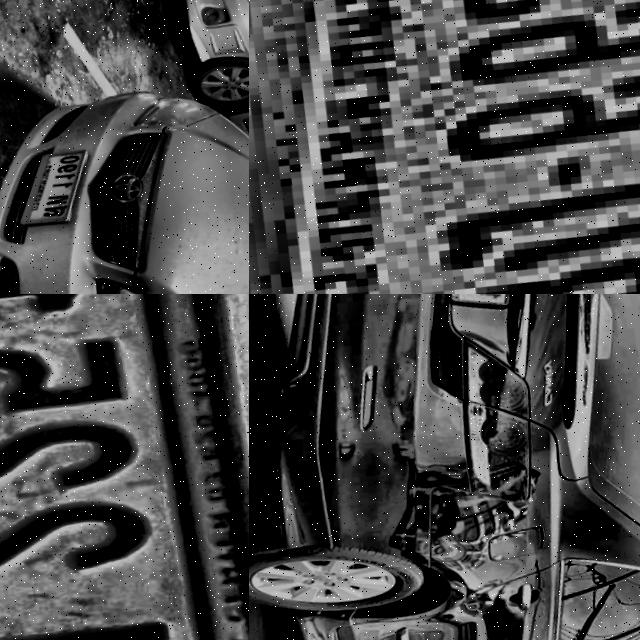license-plate: (249, 0, 640, 294), (0, 294, 249, 640), (5, 138, 105, 230)
